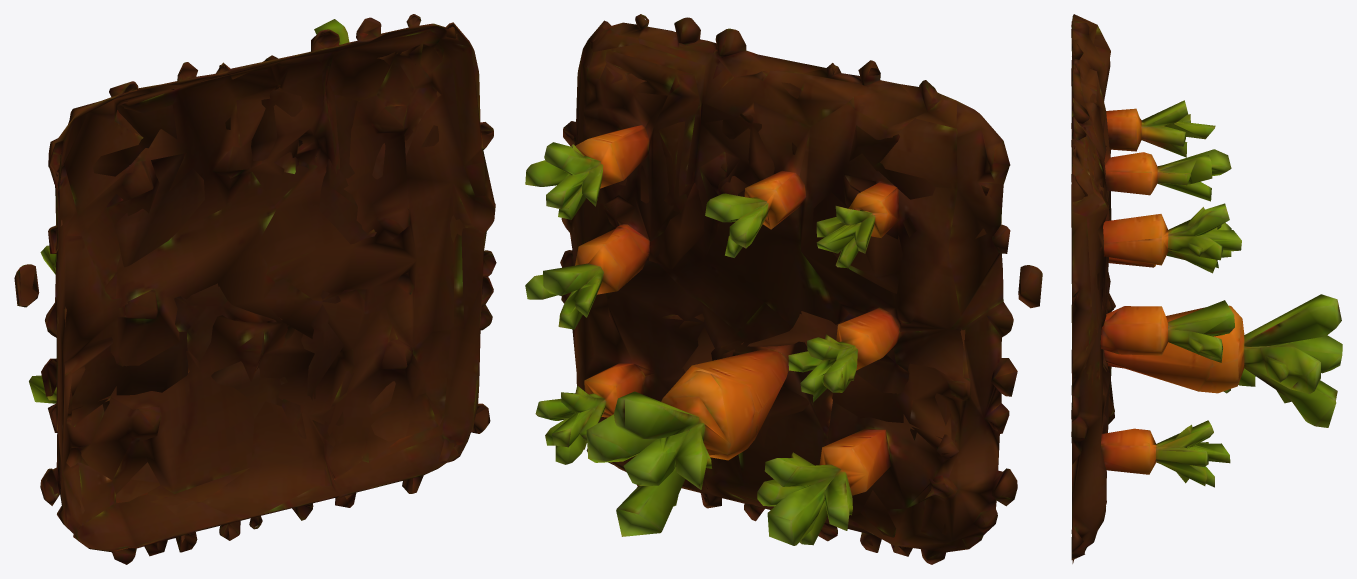
3 renders of one model, left to right at view 1: azimuth 30°, elevation 25°; view 2: azimuth 150°, elevation 25°; view 3: azimuth 270°, elevation 25°, orthographic. The views are drawn at different scales.
Visible parts, largest first — view 1: material; view 2: material; view 3: material.
Part boxes in pixels (box(x1,y1,x2,y2)): material: box(14, 14, 496, 564); material: box(525, 14, 1042, 564); material: box(1071, 14, 1342, 563).
Size of the model in its own units: 1 by 0.973 by 0.5564.
Materials: 1 (1 with a texture image).
